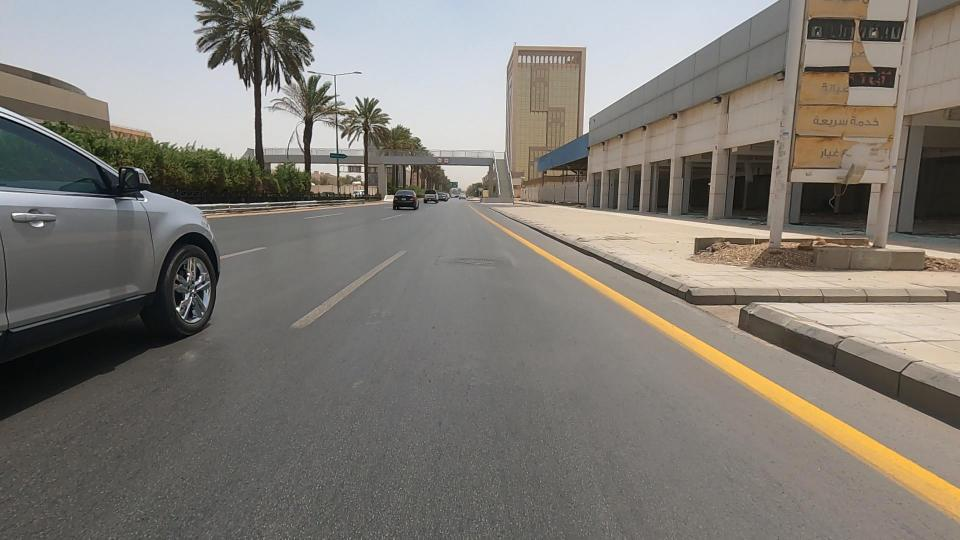BAD_BILLBOARD: (718, 0, 960, 281)
